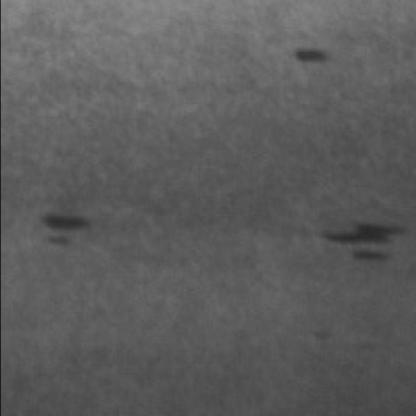inclusion: (320, 214, 412, 262), (37, 204, 100, 250), (291, 40, 337, 64)
